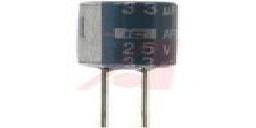Electrolytic-Capacitor: (75, 1, 183, 73)
